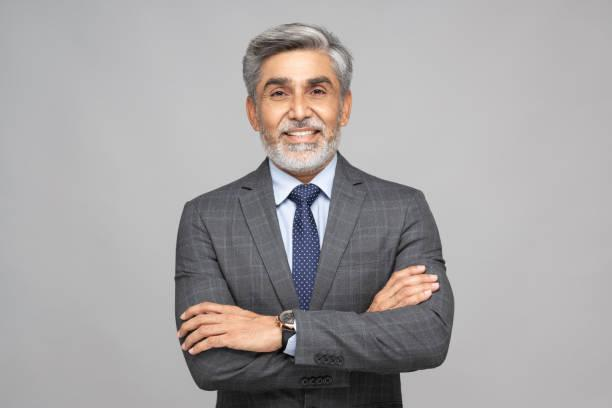Human: (175, 10, 461, 402)
